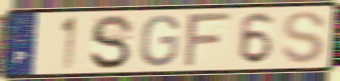1: (58, 13, 83, 73)
6: (236, 10, 276, 66)
F: (181, 10, 234, 70)
G: (138, 13, 182, 68)
S: (89, 13, 136, 72), (280, 9, 328, 66)
